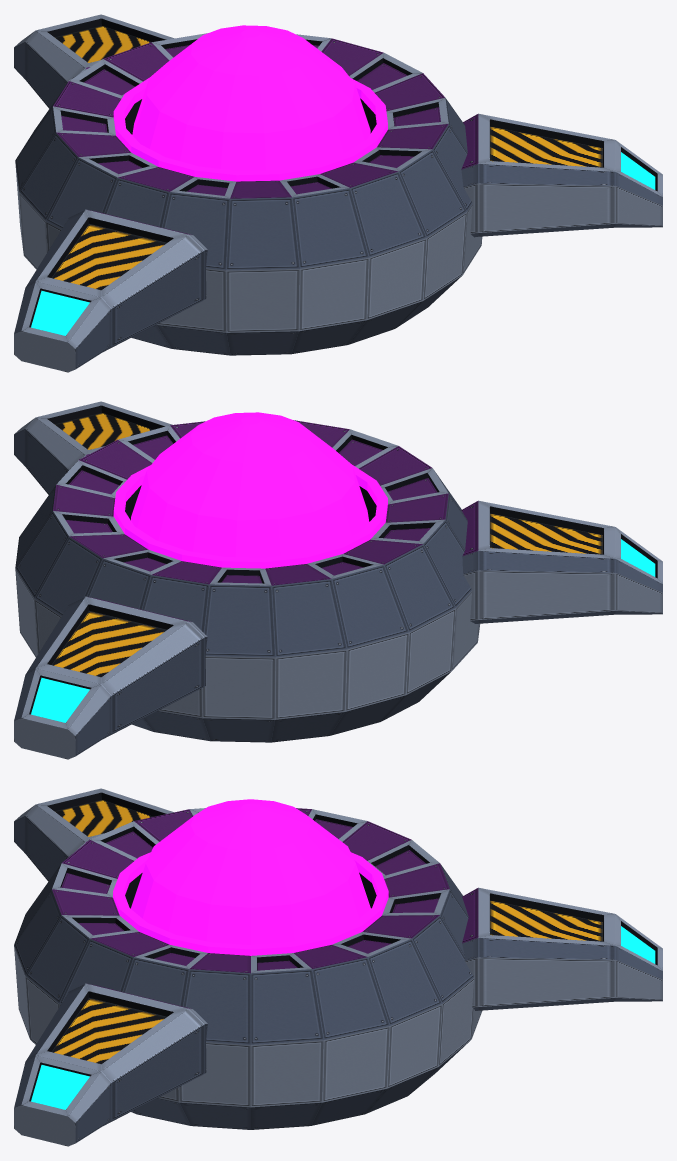
Rendered from satelite.glb.
3 renders of one model, top to bottom at view 1: azimuth 30°, elevation 25°; view 2: azimuth 150°, elevation 25°; view 3: azimuth 270°, elevation 25°, orthographic.
Visible parts, largest first — view 1: SAT_Hull, SAT_Energy, SAT_Violet_Emitters, SAT_Cyan_Emitters; view 2: SAT_Hull, SAT_Energy, SAT_Violet_Emitters, SAT_Cyan_Emitters; view 3: SAT_Hull, SAT_Energy, SAT_Violet_Emitters, SAT_Cyan_Emitters.
Part boxes in pixels (<box>): SAT_Hull: <box>14,14,662,372</box>; SAT_Energy: <box>132,25,370,170</box>; SAT_Violet_Emitters: <box>113,78,387,181</box>; SAT_Cyan_Emitters: <box>31,152,655,335</box>; SAT_Hull: <box>14,401,662,759</box>; SAT_Energy: <box>131,412,369,557</box>; SAT_Violet_Emitters: <box>113,465,387,568</box>; SAT_Cyan_Emitters: <box>31,539,655,722</box>; SAT_Hull: <box>14,788,662,1146</box>; SAT_Energy: <box>130,799,370,944</box>; SAT_Violet_Emitters: <box>113,852,388,955</box>; SAT_Cyan_Emitters: <box>31,926,655,1109</box>.
Size of the model in its own units: 1.58 by 0.56 by 1.37.
4 materials, 1 textured.
